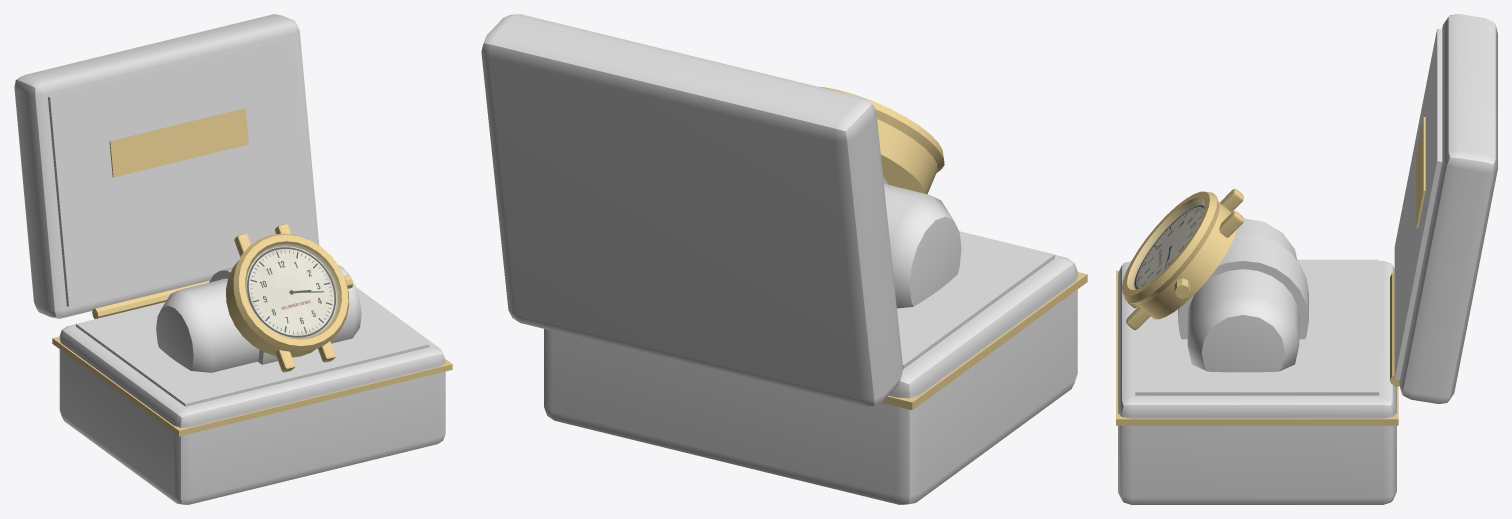
The model's file is SM_Loot_Watch.fbx.
3 renders of one model, left to right at view 1: azimuth 30°, elevation 25°; view 2: azimuth 150°, elevation 25°; view 3: azimuth 270°, elevation 25°, orthographic. The views are drawn at different scales.
Parts seen in each view (by area): view 1: SM_Loot_Watch; view 2: SM_Loot_Watch; view 3: SM_Loot_Watch.
Boxes of the visible parts, bbox=[...] form: SM_Loot_Watch: bbox=[14, 14, 452, 504]; SM_Loot_Watch: bbox=[481, 14, 1087, 504]; SM_Loot_Watch: bbox=[1116, 14, 1497, 504].
Bounding box in the file's own units: 10.1 × 11.21 × 10.95.
